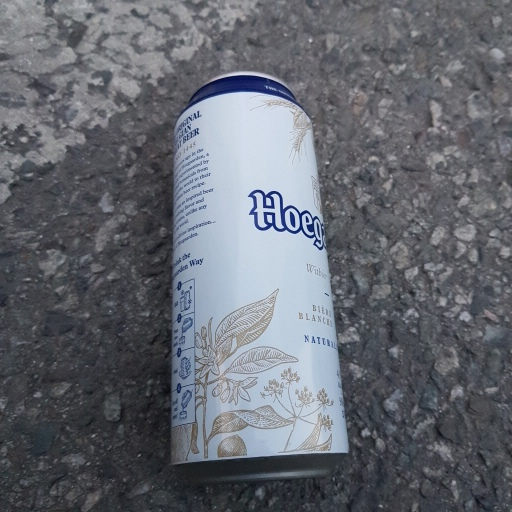Metal_0: (164, 70, 350, 484)
